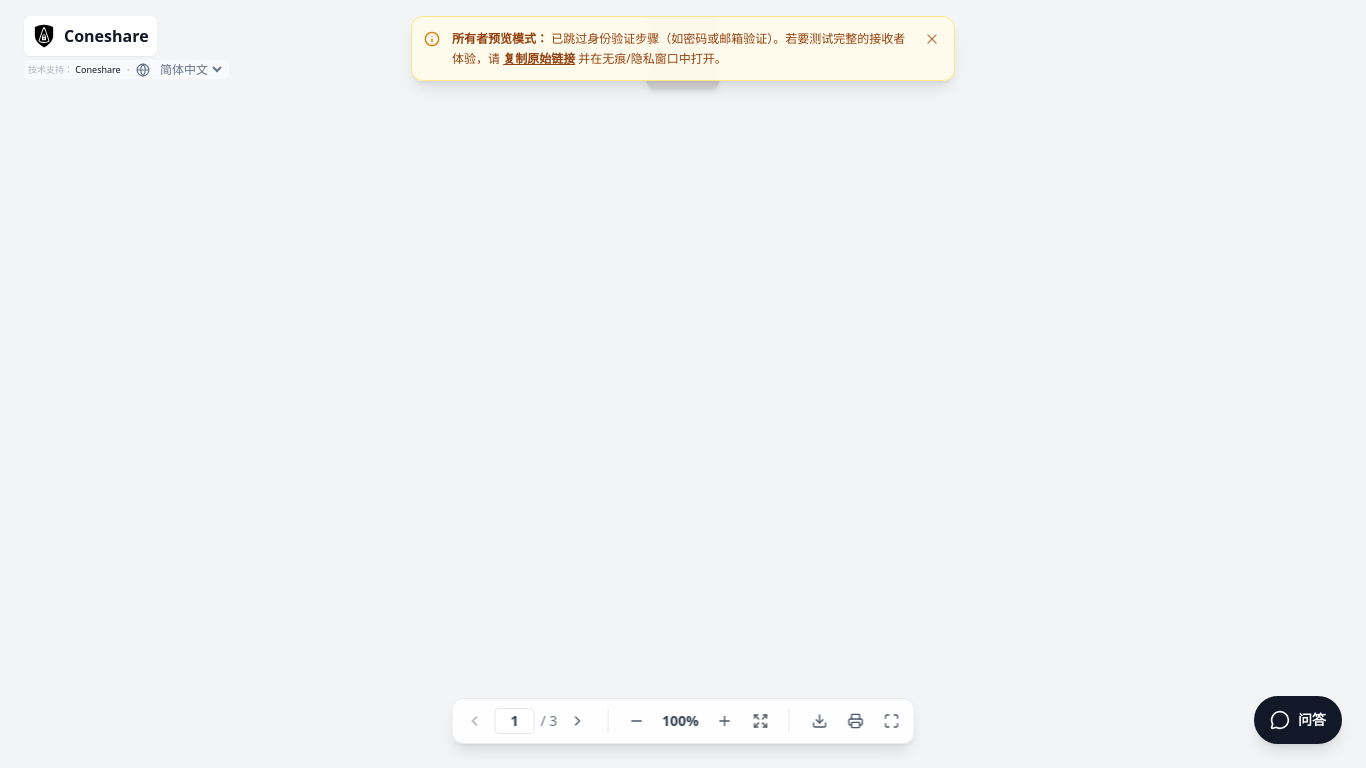
Test case: ShareLinkViewerPage › renders localized preview banner in Chinese when language is switched
Expected: the text "所有者预览模式：" is shown, top-left (452, 30), bottom-right (548, 47)
What coordinates should you click on to do the following:
click the button "复制原始链接"
I would click on:
 (539, 58)
Its box is top-left (503, 48), bottom-right (575, 68).
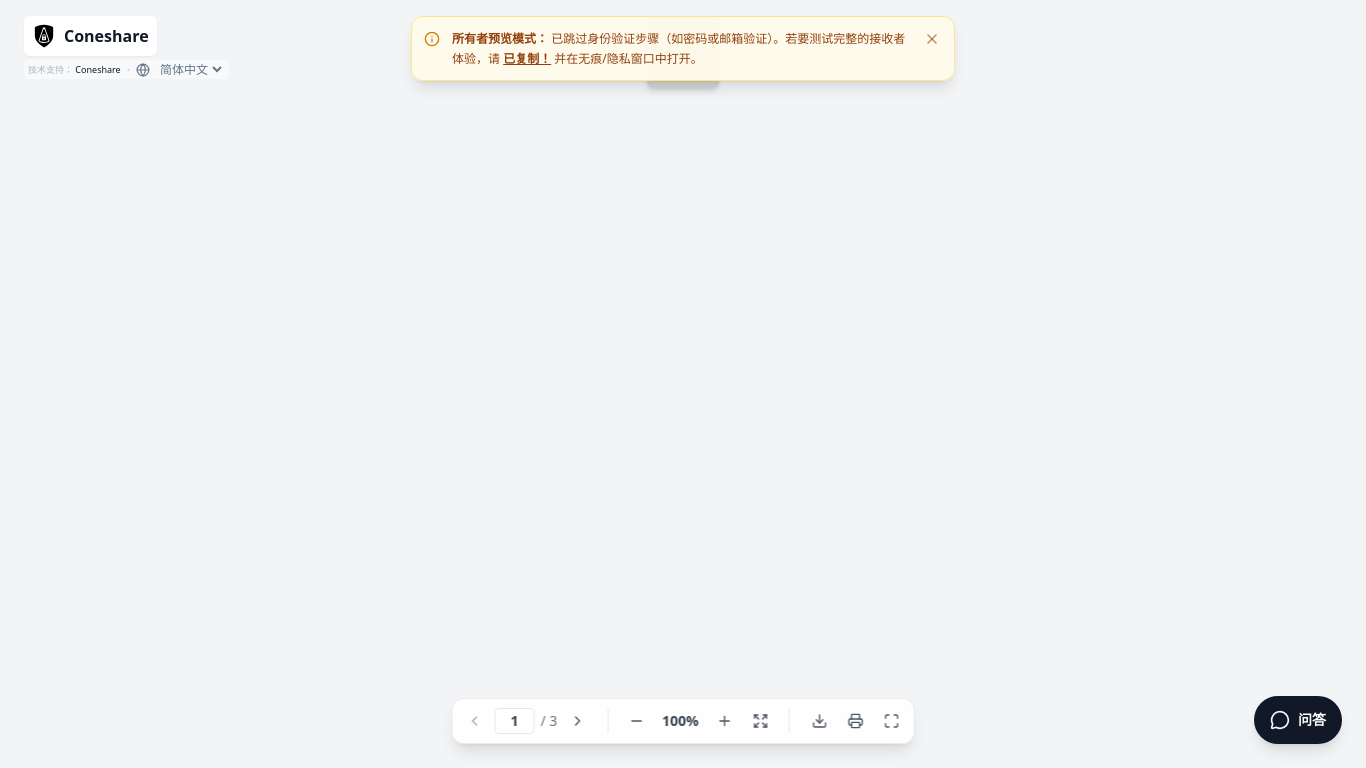
Expected: the button "已复制！" is shown, top-left (503, 48), bottom-right (551, 68)
What coordinates should you click on to do the following:
click the button titled "关闭横幅"
I would click on:
 (932, 39)
Its box is top-left (922, 29), bottom-right (942, 49).
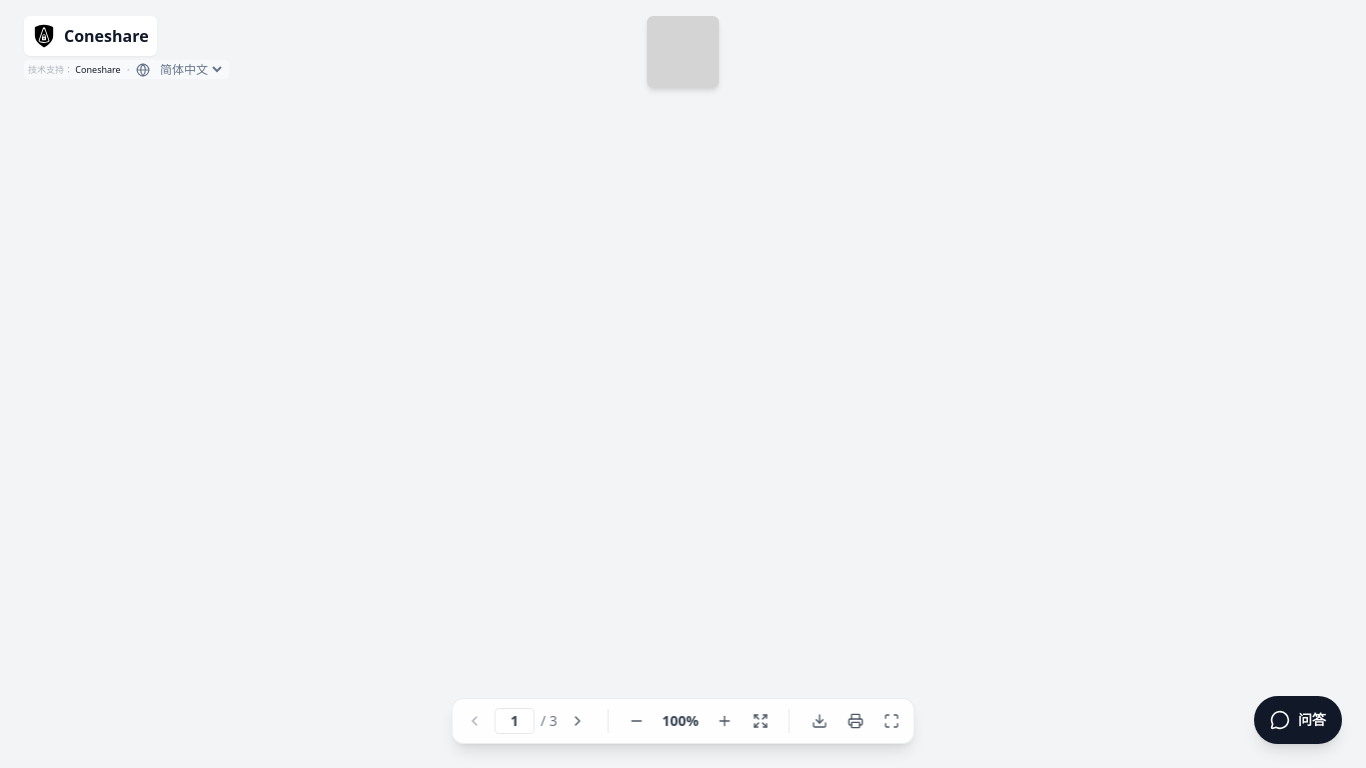
Expected: the text "所有者预览模式：" is gone
